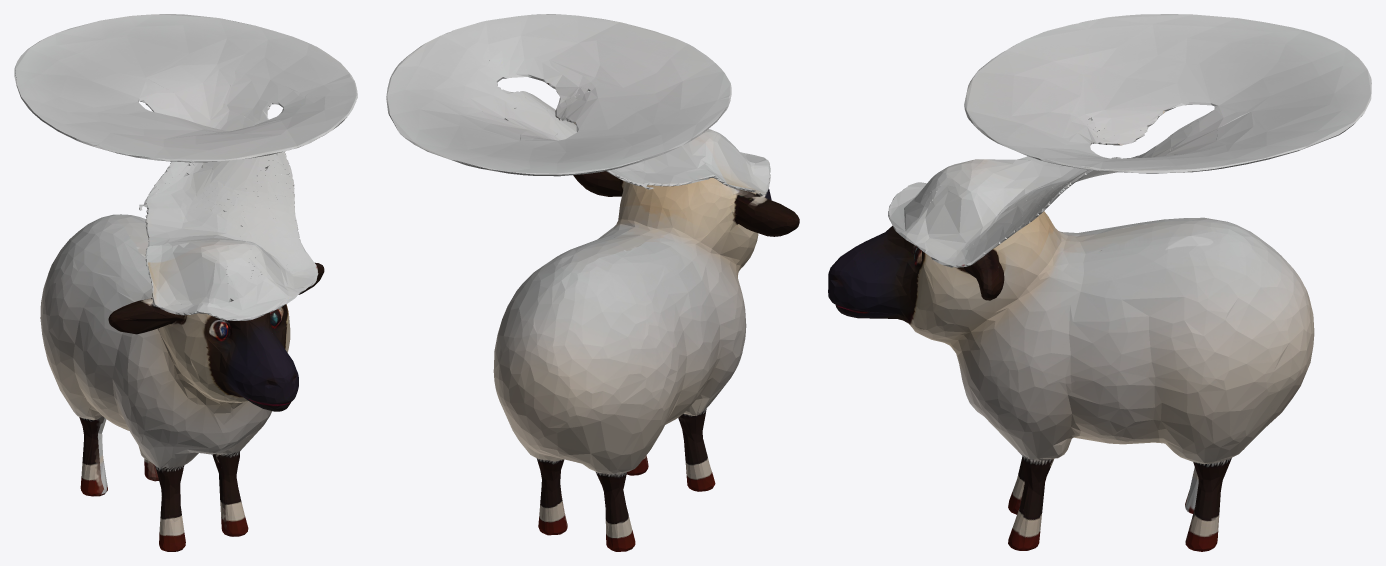
Rendered from w_sheep.glb.
The picture shows the model from 3 angles, left to right: view 1: azimuth 30°, elevation 25°; view 2: azimuth 150°, elevation 25°; view 3: azimuth 270°, elevation 25°; orthographic projection. The views are drawn at different scales.
Parts seen in each view (by area): view 1: textured_mesh.obj; view 2: textured_mesh.obj; view 3: textured_mesh.obj.
Part boxes in pixels (x1,y1,x2,y2): textured_mesh.obj: [14, 14, 357, 551]; textured_mesh.obj: [386, 14, 799, 551]; textured_mesh.obj: [828, 14, 1371, 551].
Size of the model in its own units: 1.43 by 1.86 by 1.99.
1 material, 1 textured.
